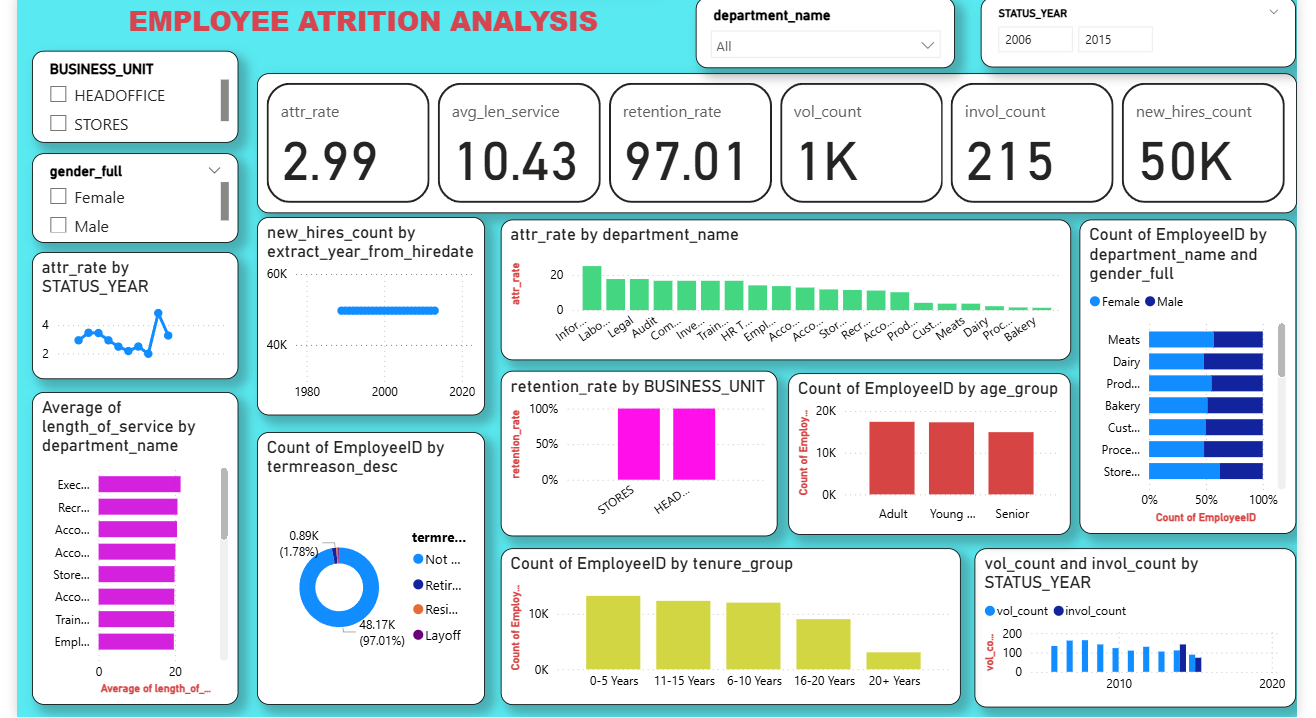

Layout of this report page (visuals, bound fields, positions):
{"tool":"powerbi","page":{"name":"Page 1","canvas":[1280,720],"ordinal":0},"visuals":[{"type":"cardVisual","fields":{"Data":["corrected_file.attr_rate","corrected_file.avg_len_service","corrected_file.retention_rate","corrected_file.vol_count","corrected_file.invol_count","corrected_file.new_hires_count"]},"box":[239.7,75.6,1039.7,140],"z":0},{"type":"textbox","box":[106.4,0,494.9,53.8],"z":1000},{"type":"slicer","fields":{"Values":["corrected_file.STATUS_YEAR"]},"box":[964.1,0,315.4,70.5],"z":2000},{"type":"slicer","fields":{"Values":["corrected_file.department_name"]},"box":[678.3,0,259.4,71],"z":3000},{"type":"slicer","fields":{"Values":["corrected_file.BUSINESS_UNIT"]},"box":[15.4,53.8,206.4,92.3],"z":4000},{"type":"slicer","fields":{"Values":["corrected_file.gender_full"]},"box":[15.4,156.4,206.4,89.7],"z":5000},{"type":"lineChart","fields":{"Y":["corrected_file.attr_rate"],"Category":["corrected_file.STATUS_YEAR"]},"box":[15.4,255.1,206.4,126.9],"z":6000},{"type":"clusteredColumnChart","fields":{"Y":["corrected_file.attr_rate"],"Category":["corrected_file.department_name"]},"box":[483.3,223.1,570.5,141],"z":7000},{"type":"donutChart","fields":{"Y":["CountNonNull(corrected_file.EmployeeID)"],"Category":["corrected_file.termreason_desc"]},"box":[239.7,434.6,228.2,273.1],"z":8000},{"type":"hundredPercentStackedColumnChart","fields":{"Category":["corrected_file.BUSINESS_UNIT"],"Y":["corrected_file.retention_rate"]},"box":[483.3,374.4,276.9,165.4],"z":9000},{"type":"barChart","fields":{"Category":["corrected_file.department_name"],"Y":["Avg(corrected_file.length_of_service)"]},"box":[15.4,394.9,206.4,312.8],"z":10000},{"type":"clusteredColumnChart","fields":{"Y":["corrected_file.vol_count","corrected_file.invol_count"],"Category":["corrected_file.STATUS_YEAR"]},"box":[957.7,551.3,321.8,159],"z":11000},{"type":"lineChart","fields":{"Category":["corrected_file.extract_year_from_hiredate"],"Y":["corrected_file.new_hires_count"]},"box":[239.7,220.5,228.2,198.7],"z":12000},{"type":"columnChart","fields":{"Category":["corrected_file.age_group"],"Y":["CountNonNull(corrected_file.EmployeeID)"]},"box":[771.8,375.6,282.1,161.5],"z":13000},{"type":"hundredPercentStackedBarChart","fields":{"Category":["corrected_file.department_name"],"Y":["CountNonNull(corrected_file.EmployeeID)"],"Series":["corrected_file.gender_full"]},"box":[1062.8,223.1,216.7,314.1],"z":14000},{"type":"columnChart","fields":{"Category":["corrected_file.tenure_group"],"Y":["CountNonNull(corrected_file.EmployeeID)"]},"box":[483.3,551.3,460.3,156.4],"z":15000}]}

Visuals, with their boxes in screenshot pixels (x1, y1, x2, y2):
cardVisual - corrected_file.attr_rate x corrected_file.avg_len_service: crop(253, 78, 1278, 216)
textbox: crop(122, 3, 610, 56)
slicer - corrected_file.STATUS_YEAR: crop(968, 3, 1278, 73)
slicer - corrected_file.department_name: crop(686, 3, 941, 73)
slicer - corrected_file.BUSINESS_UNIT: crop(32, 56, 236, 147)
slicer - corrected_file.gender_full: crop(32, 158, 236, 246)
lineChart - corrected_file.attr_rate x corrected_file.STATUS_YEAR: crop(32, 255, 236, 380)
clusteredColumnChart - corrected_file.attr_rate x corrected_file.department_name: crop(494, 223, 1056, 362)
donutChart - CountNonNull(corrected_file.EmployeeID) x corrected_file.termreason_desc: crop(253, 432, 478, 701)
hundredPercentStackedColumnChart - corrected_file.BUSINESS_UNIT x corrected_file.retention_rate: crop(494, 372, 767, 536)
barChart - corrected_file.department_name x Avg(corrected_file.length_of_service): crop(32, 393, 236, 701)
clusteredColumnChart - corrected_file.vol_count x corrected_file.invol_count: crop(961, 547, 1278, 704)
lineChart - corrected_file.extract_year_from_hiredate x corrected_file.new_hires_count: crop(253, 221, 478, 417)
columnChart - corrected_file.age_group x CountNonNull(corrected_file.EmployeeID): crop(778, 374, 1056, 533)
hundredPercentStackedBarChart - corrected_file.department_name x CountNonNull(corrected_file.EmployeeID): crop(1065, 223, 1278, 533)
columnChart - corrected_file.tenure_group x CountNonNull(corrected_file.EmployeeID): crop(494, 547, 947, 701)
